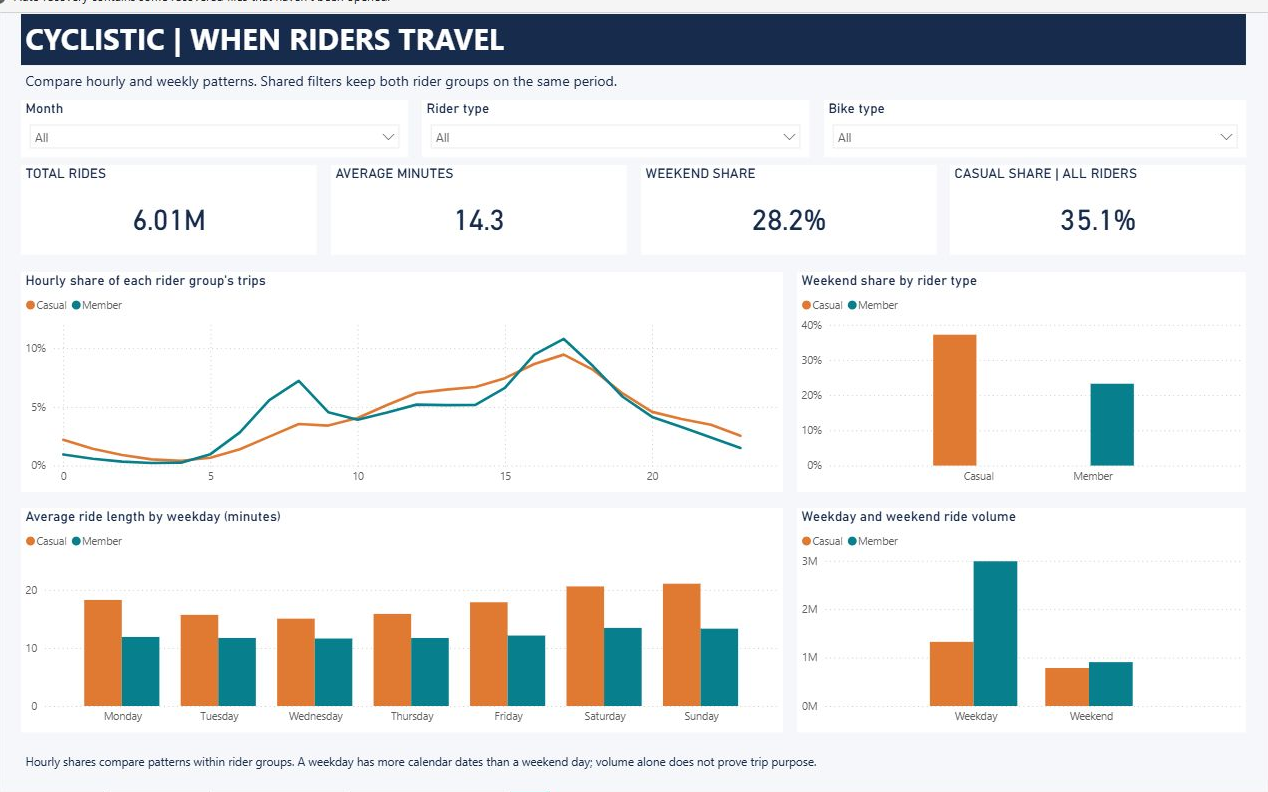

What the dashboard file says about the page in this screenshot:
{"tool":"powerbi","page":{"name":"02 Riding Patterns","canvas":[1440,900],"ordinal":1},"visuals":[{"type":"textbox","box":[24,16,1392,58],"z":14},{"type":"textbox","box":[24,76,1392,37],"z":15},{"type":"slicer","title":"Month","fields":{"Values":["Month.Month"]},"box":[24,114,440,65],"z":16},{"type":"slicer","title":"Rider type","fields":{"Values":["Rider.Rider"]},"box":[480,114,440,65],"z":17},{"type":"slicer","title":"Bike type","fields":{"Values":["Bike.Bike"]},"box":[936,114,480,65],"z":18},{"type":"card","title":"TOTAL RIDES","fields":{"Values":["Trips.Total Rides"]},"box":[24,187,336,102],"z":19},{"type":"card","title":"AVERAGE MINUTES","fields":{"Values":["Trips.Average Ride Minutes"]},"box":[376,187,336,102],"z":20},{"type":"card","title":"WEEKEND SHARE","fields":{"Values":["Trips.Weekend Ride Share"]},"box":[728,187,336,102],"z":21},{"type":"card","title":"CASUAL SHARE | ALL RIDERS","fields":{"Values":["Trips.Casual Ride Share"]},"box":[1080,187,336,102],"z":22},{"type":"lineChart","title":"Hourly share of each rider group''s trips","fields":{"Category":["Trips.Hour"],"Y":["Trips.Hourly Ride Share"],"Series":["Rider.Rider"]},"box":[24,309,866,250],"z":23},{"type":"clusteredColumnChart","title":"Weekend share by rider type","fields":{"Category":["Rider.Rider"],"Y":["Trips.Weekend Ride Share"],"Series":["Rider.Rider"]},"box":[906,309,510,250],"z":24},{"type":"clusteredColumnChart","title":"Average ride length by weekday (minutes)","fields":{"Category":["Trips.Weekday"],"Y":["Trips.Average Ride Minutes"],"Series":["Rider.Rider"]},"box":[24,577,866,255],"z":25},{"type":"clusteredColumnChart","title":"Weekday and weekend ride volume","fields":{"Category":["Trips.Day type"],"Y":["Trips.Total Rides"],"Series":["Rider.Rider"]},"box":[906,577,510,255],"z":26},{"type":"textbox","box":[24,851,1392,34],"z":27}]}

Visuals, with their boxes in screenshot pixels (x1, y1, x2, y2), scaled from the page's 1440x900 canvas onto the 1268x792 screenshot:
textbox: <region>21, 14, 1247, 65</region>
textbox: <region>21, 67, 1247, 99</region>
"Month" slicer: <region>21, 100, 409, 158</region>
"Rider type" slicer: <region>423, 100, 810, 158</region>
"Bike type" slicer: <region>824, 100, 1247, 158</region>
"TOTAL RIDES" card: <region>21, 165, 317, 254</region>
"AVERAGE MINUTES" card: <region>331, 165, 627, 254</region>
"WEEKEND SHARE" card: <region>641, 165, 937, 254</region>
"CASUAL SHARE | ALL RIDERS" card: <region>951, 165, 1247, 254</region>
"Hourly share of each rider group''s trips" lineChart: <region>21, 272, 784, 492</region>
"Weekend share by rider type" clusteredColumnChart: <region>798, 272, 1247, 492</region>
"Average ride length by weekday (minutes)" clusteredColumnChart: <region>21, 508, 784, 732</region>
"Weekday and weekend ride volume" clusteredColumnChart: <region>798, 508, 1247, 732</region>
textbox: <region>21, 749, 1247, 779</region>
